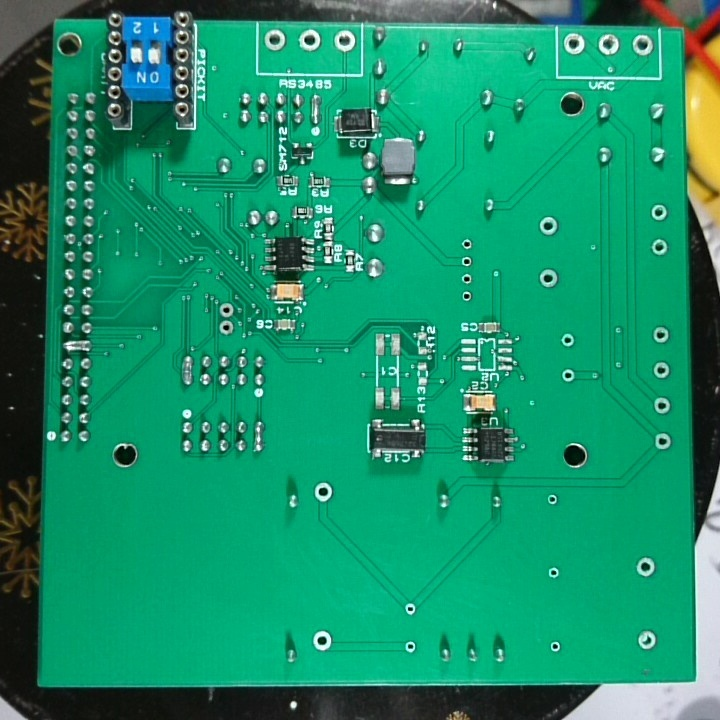F: (261, 26, 290, 56), (595, 30, 624, 59), (330, 26, 357, 56), (296, 27, 323, 55), (561, 31, 590, 57), (631, 30, 656, 58), (312, 479, 336, 506), (634, 627, 657, 655), (633, 555, 658, 580), (647, 200, 672, 225), (536, 214, 561, 238), (648, 235, 672, 259), (310, 629, 337, 650), (537, 266, 559, 291), (650, 323, 673, 346), (652, 430, 673, 454), (651, 359, 673, 381), (651, 395, 674, 415), (216, 317, 235, 338), (216, 300, 237, 318), (460, 284, 475, 306), (559, 366, 577, 384), (401, 600, 419, 618), (401, 637, 419, 655), (559, 331, 576, 350), (459, 268, 476, 287), (459, 235, 476, 252), (459, 252, 476, 269), (546, 564, 561, 583), (544, 492, 561, 508), (547, 640, 561, 655)
P: (249, 418, 270, 455), (176, 352, 196, 389), (61, 338, 97, 356), (307, 91, 324, 126)
